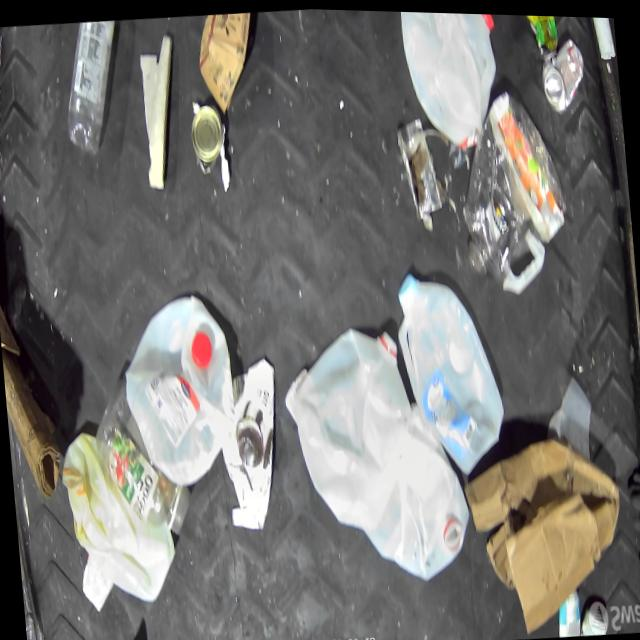can: (395, 113, 443, 221), (538, 34, 588, 115), (188, 99, 228, 176), (523, 12, 560, 56), (555, 586, 583, 634)
milk_jug: (288, 319, 421, 538), (392, 265, 509, 480), (118, 290, 240, 488), (59, 426, 180, 614), (356, 398, 476, 585), (397, 9, 504, 152)
non_white_jug: (450, 83, 574, 300)
plastic_bottle: (90, 373, 194, 539), (57, 18, 130, 161), (25, 615, 39, 640)
